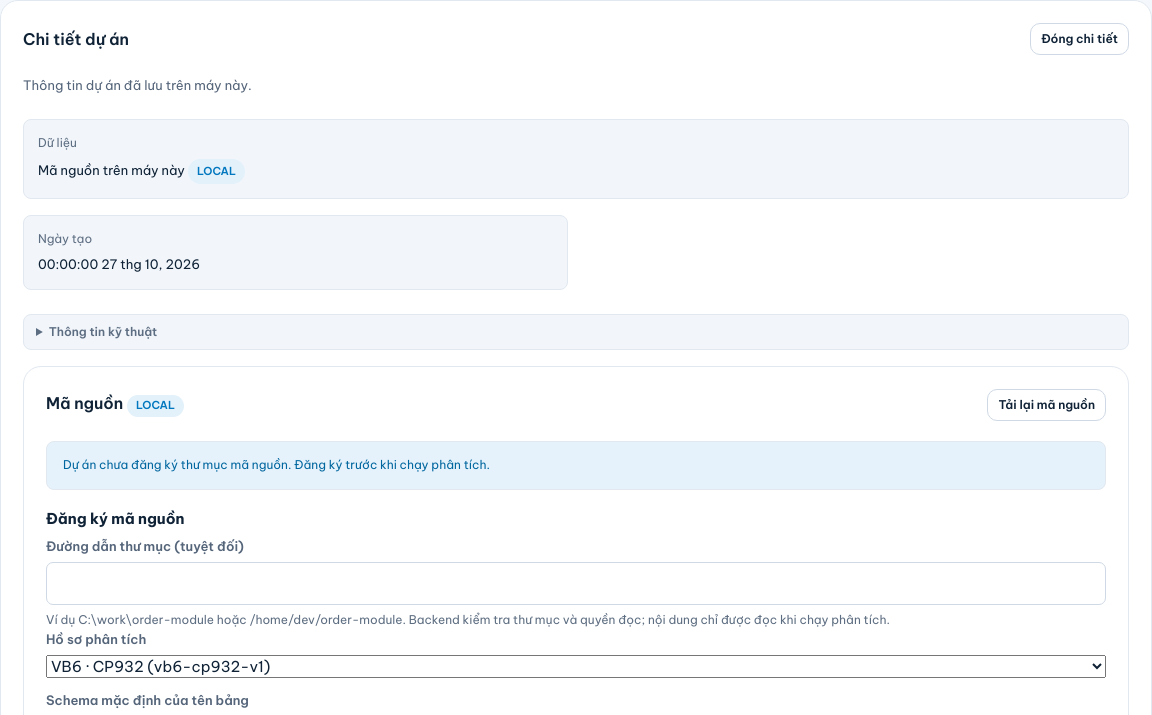
Scenario: Source registration form (F01) › F01-AC02 keeps the input and shows a safe message for SOURCE_UNREADABLE
Type "D:\\work\\order-module" into the field labelled "Đường dẫn thư mục (tuyệt đối)" at {"x": 576, "y": 583}, box [46,562,1106,605]
(page scrolled)
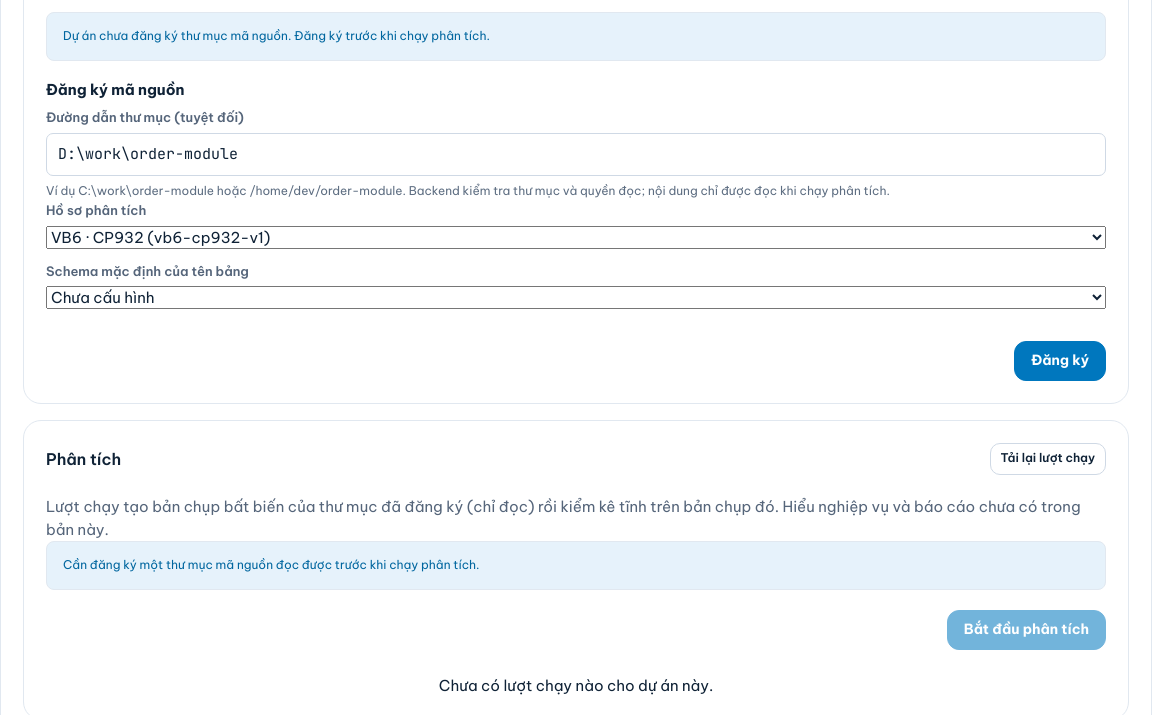
Click the button "Đăng ký" at {"x": 1060, "y": 361}, box [1014,341,1106,381]
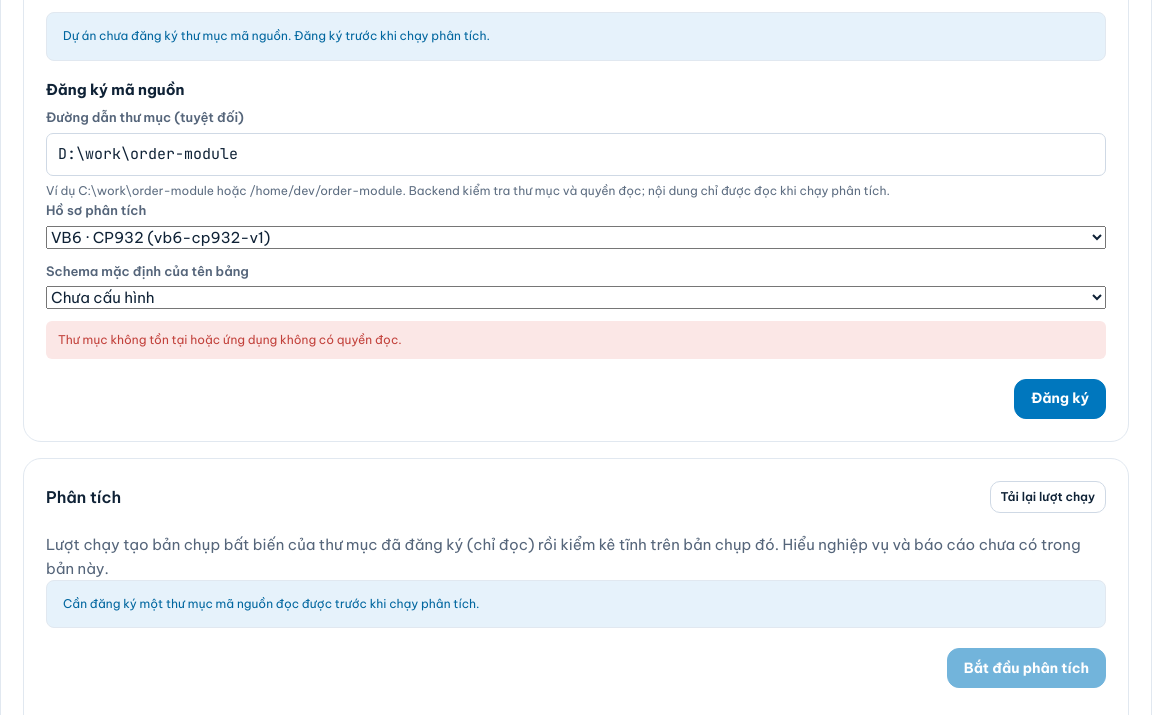
Expected: the button "Bắt đầu phân tích" is disabled, [947,648,1106,688]
Result: the text "Thư mục không tồn tại hoặc ứng dụng không có quyền đọc." is shown at [46,321,1106,359]
